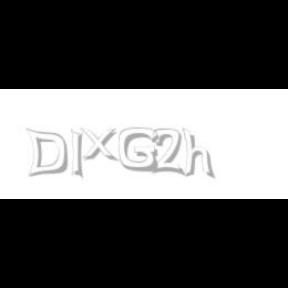2: (149, 128, 183, 176)
D: (26, 128, 68, 178)
G: (118, 128, 158, 172)
I: (72, 128, 84, 180)
h: (182, 128, 216, 180)
x: (80, 128, 122, 162)
